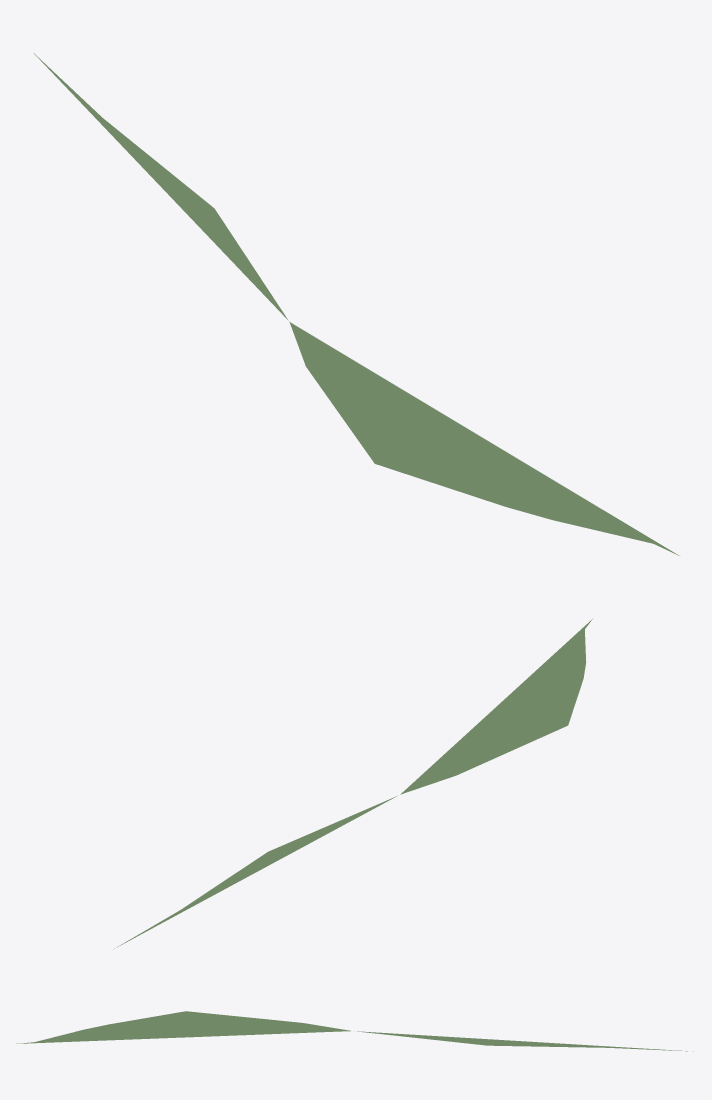
Rendered from c_1650_17832_parks.glb.
3 renders of one model, top to bottom at view 1: azimuth 30°, elevation 25°; view 2: azimuth 150°, elevation 25°; view 3: azimuth 270°, elevation 25°, orthographic. The views are drawn at different scales.
Parts seen in each view (by area): view 1: geometry_0; view 2: geometry_0; view 3: geometry_0.
Part boxes in pixels (x1,y1,x2,y2): geometry_0: [34, 53, 679, 555]; geometry_0: [113, 619, 592, 949]; geometry_0: [16, 1011, 693, 1051].
Size of the model in its own units: 88.77 by 0 by 240.
